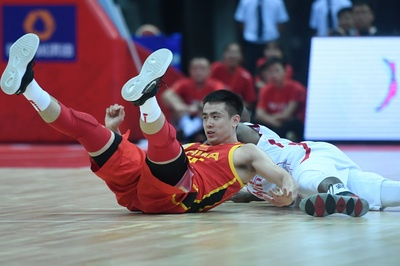falling: (217, 93, 400, 226)
